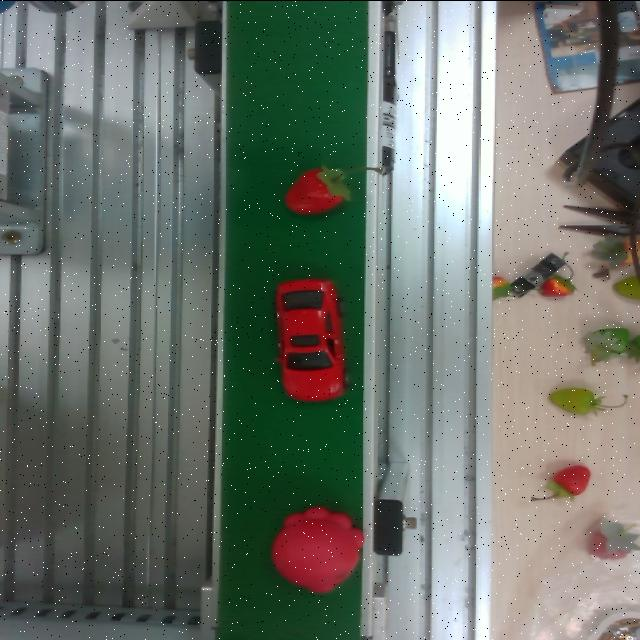Large Unripe Strawberry: (527, 462, 593, 506)
None - Strawberry: (271, 254, 339, 404), (271, 498, 369, 598)
Small Ripe Strawberry: (270, 153, 354, 218)
conveyor: (212, 0, 384, 639)
